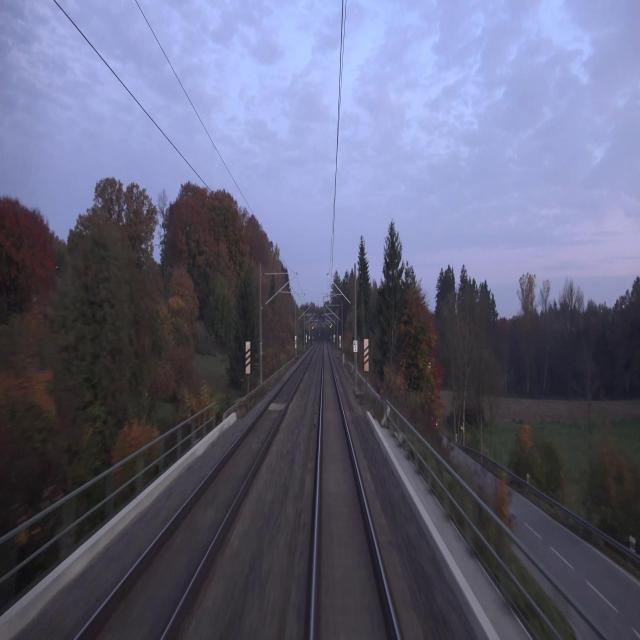rail-track: (76, 344, 316, 639), (314, 343, 396, 639)
